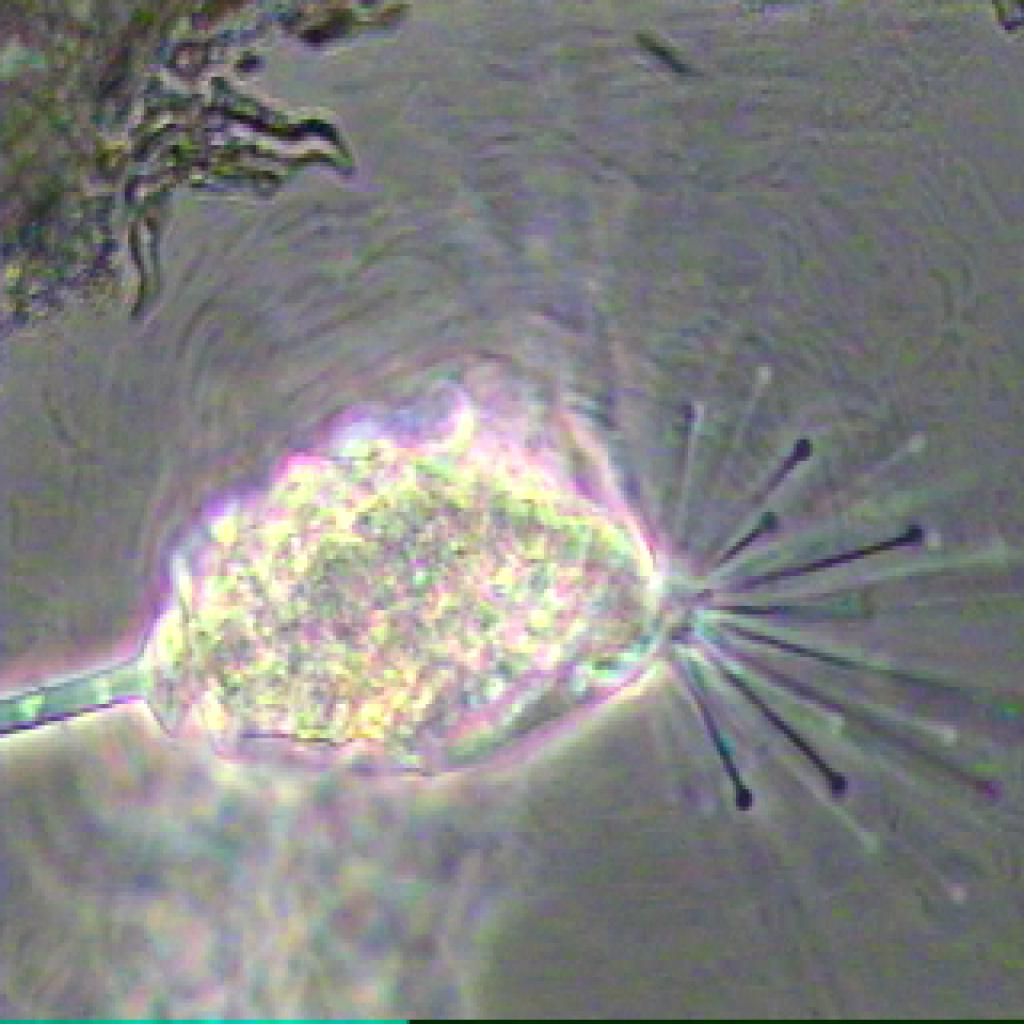Suctorida: (44, 316, 1018, 930)
